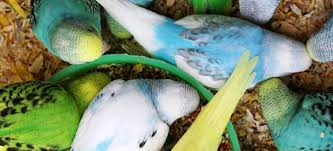budgie: (151, 15, 315, 89), (70, 78, 201, 151), (22, 1, 111, 70), (256, 77, 333, 151)
